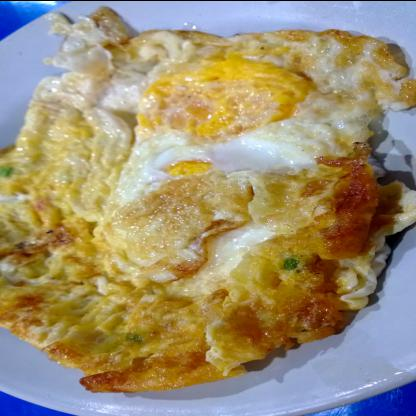Omelette: (0, 26, 398, 392)
